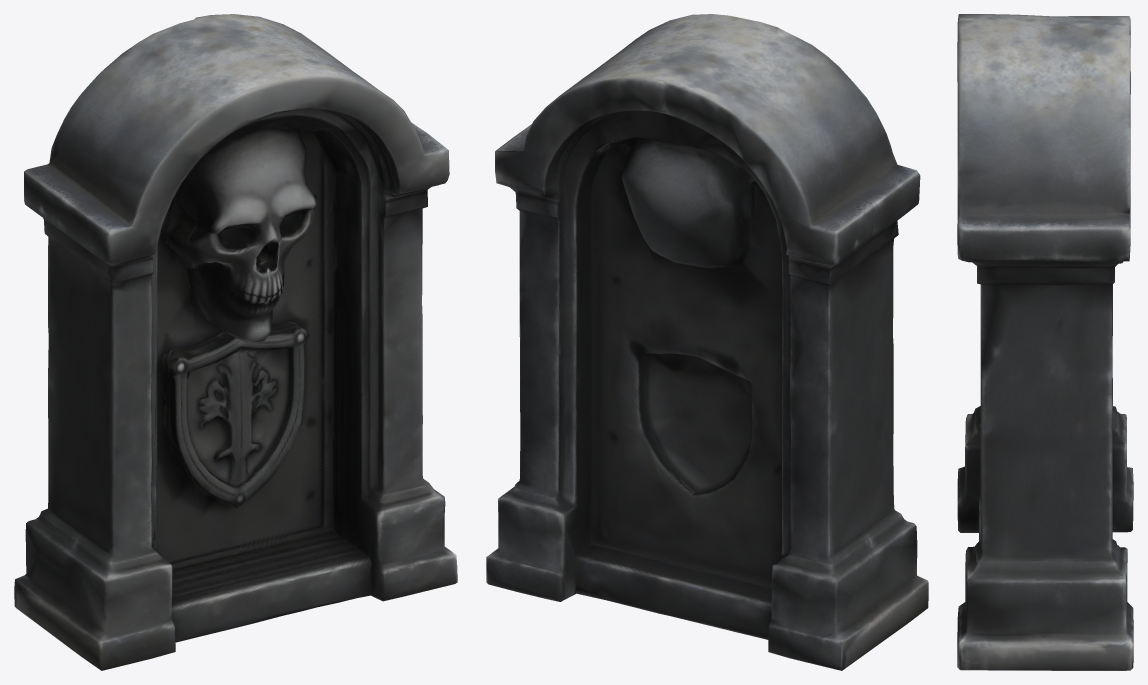
Rendered from crypt_door_sealed.glb.
The picture shows the model from 3 angles, left to right: view 1: azimuth 30°, elevation 25°; view 2: azimuth 150°, elevation 25°; view 3: azimuth 270°, elevation 25°; orthographic projection.
Bounding box in the file's own units: 1.37 × 2 × 0.5812.
Materials: 1 (1 with a texture image).
